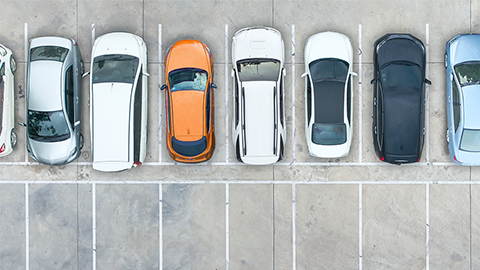car: (19, 18, 87, 176), (87, 30, 151, 179), (366, 27, 429, 169), (224, 26, 288, 162), (296, 28, 359, 162), (158, 29, 219, 162)
empty space: (219, 177, 302, 270), (284, 179, 365, 270), (156, 180, 234, 270), (359, 177, 434, 270), (22, 179, 97, 269), (89, 180, 162, 270)
